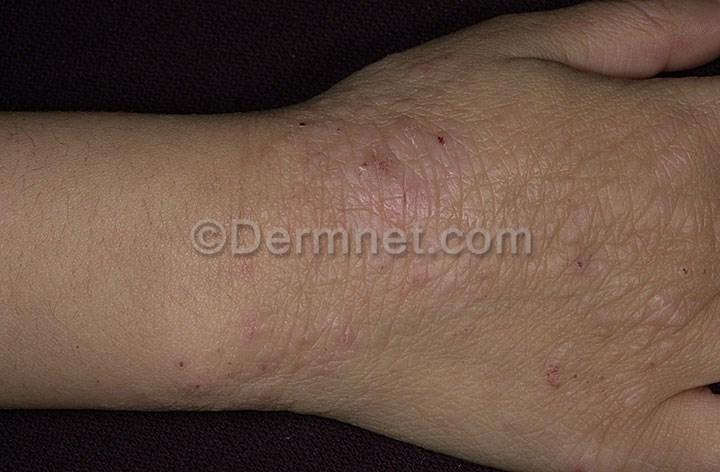excoriacion 1: (329, 118, 480, 290)
exudacion 1: (355, 125, 448, 176)
liquenificacion 1: (253, 65, 718, 413)
